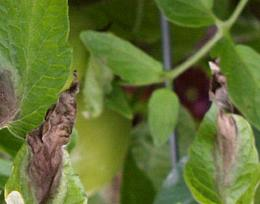Tomato leaf late blight: (0, 0, 94, 147), (170, 55, 260, 204), (0, 73, 96, 204)
